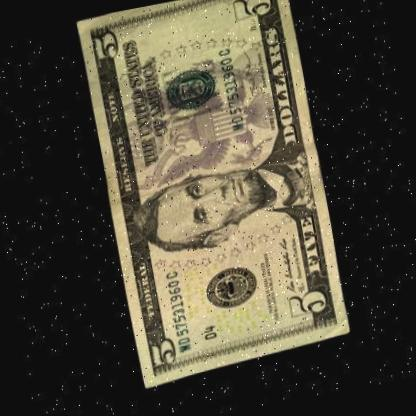five-front: (73, 0, 353, 396)
